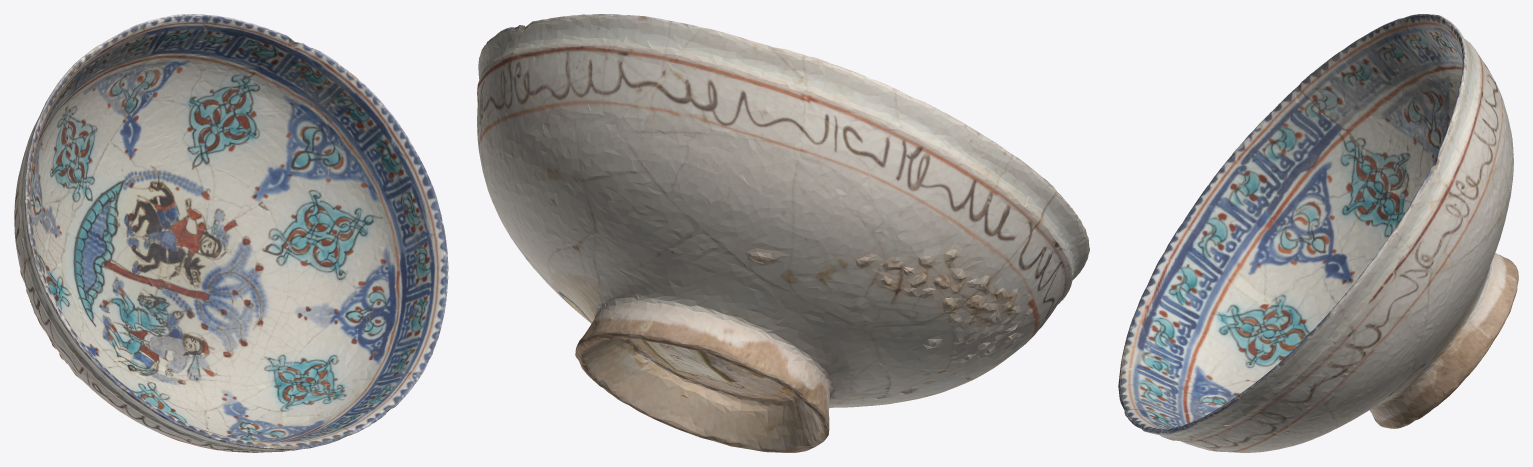
Rendered from Mia_001085_MinaiBowl_32k.obj.
3 views of the same model, side by side, from view 1: azimuth 30°, elevation 25°; view 2: azimuth 150°, elevation 25°; view 3: azimuth 270°, elevation 25° (orthographic). The views are drawn at different scales.
Size of the model in its own units: 2.68 by 2.16 by 2.09.
1 material, 1 textured.
